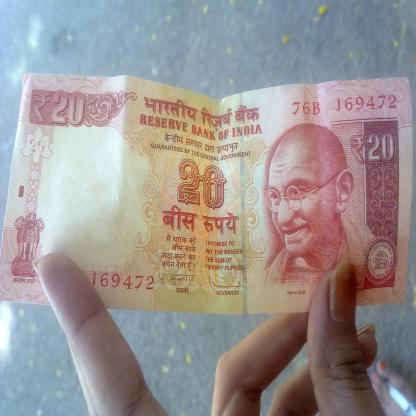Old20Front: (0, 73, 415, 316)
